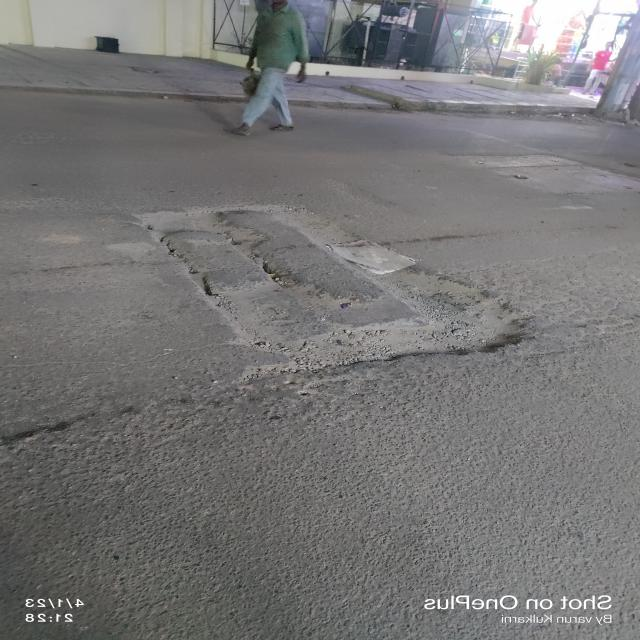manhole: (114, 201, 542, 388)
